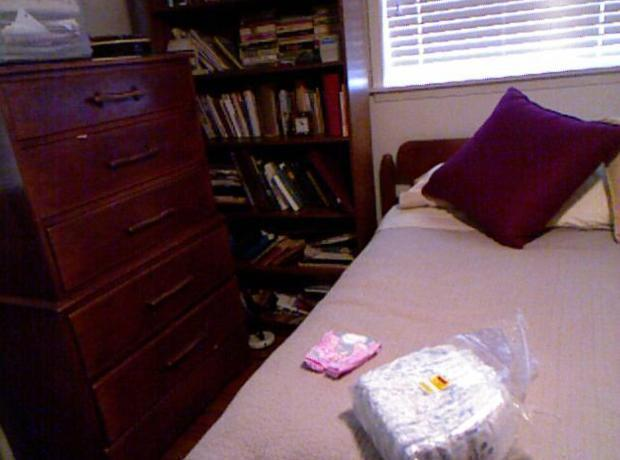Armario: (1, 65, 250, 444)
Cama: (189, 107, 616, 457)
